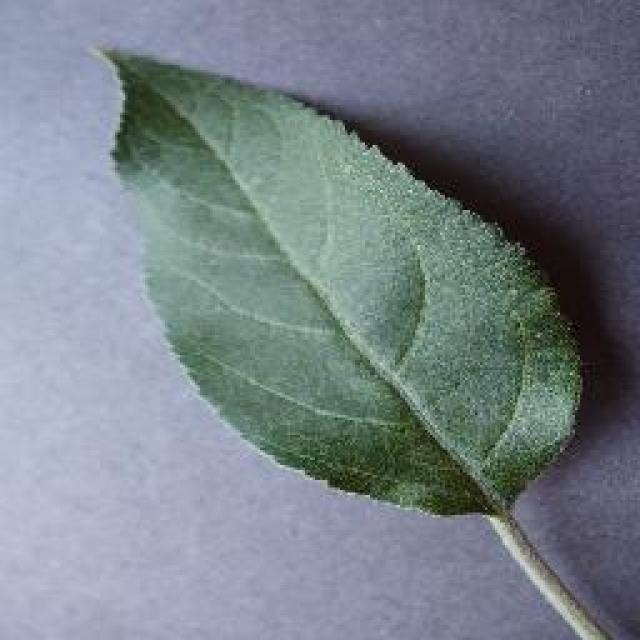apple healthy: (87, 40, 585, 522)
